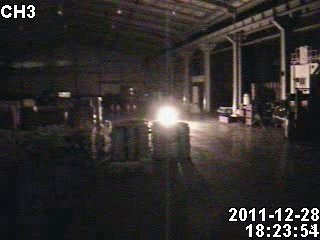fire: (154, 100, 180, 130)
